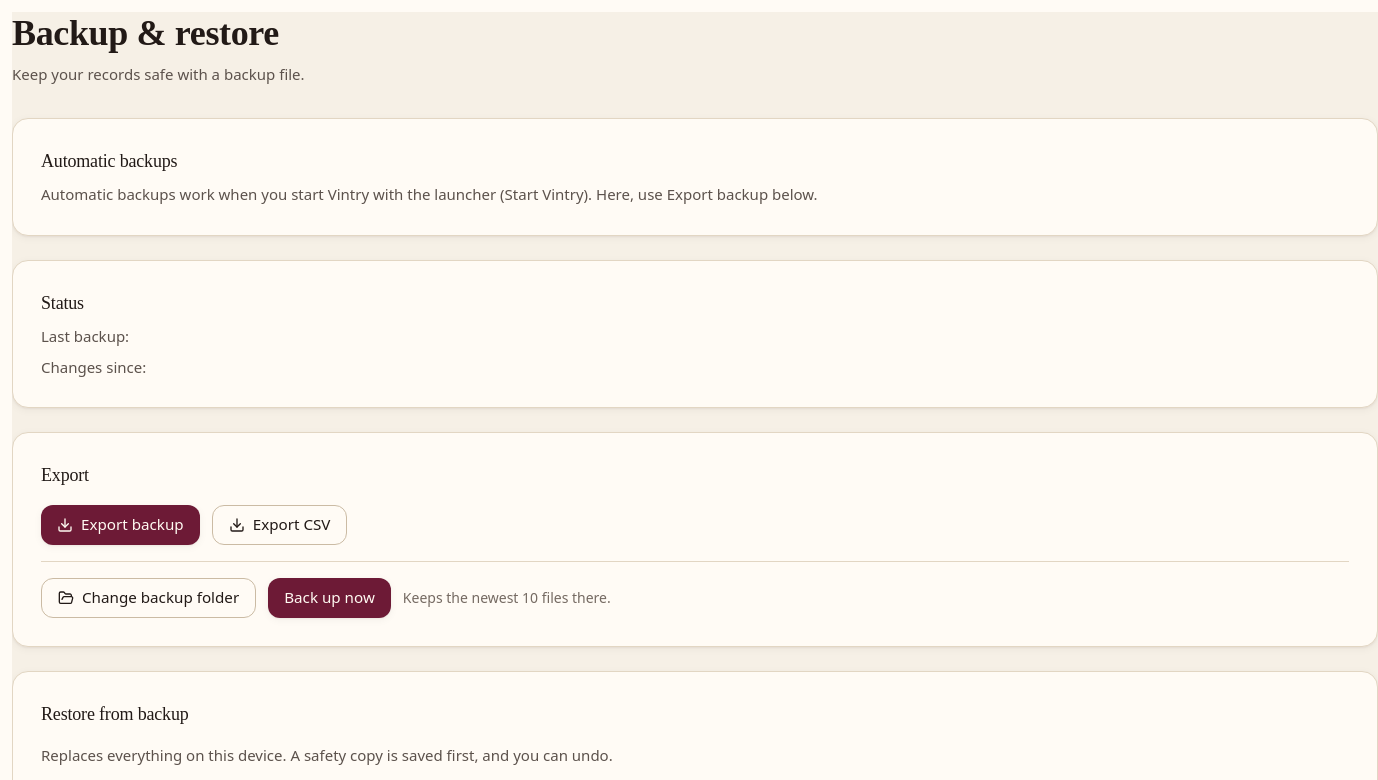
Test case: BackupPage › exports a CSV of the cellar
This screenshot has width=1378, height=780.
Step 1. Click the button "Export CSV" → (280, 525), box [212,505,348,545]
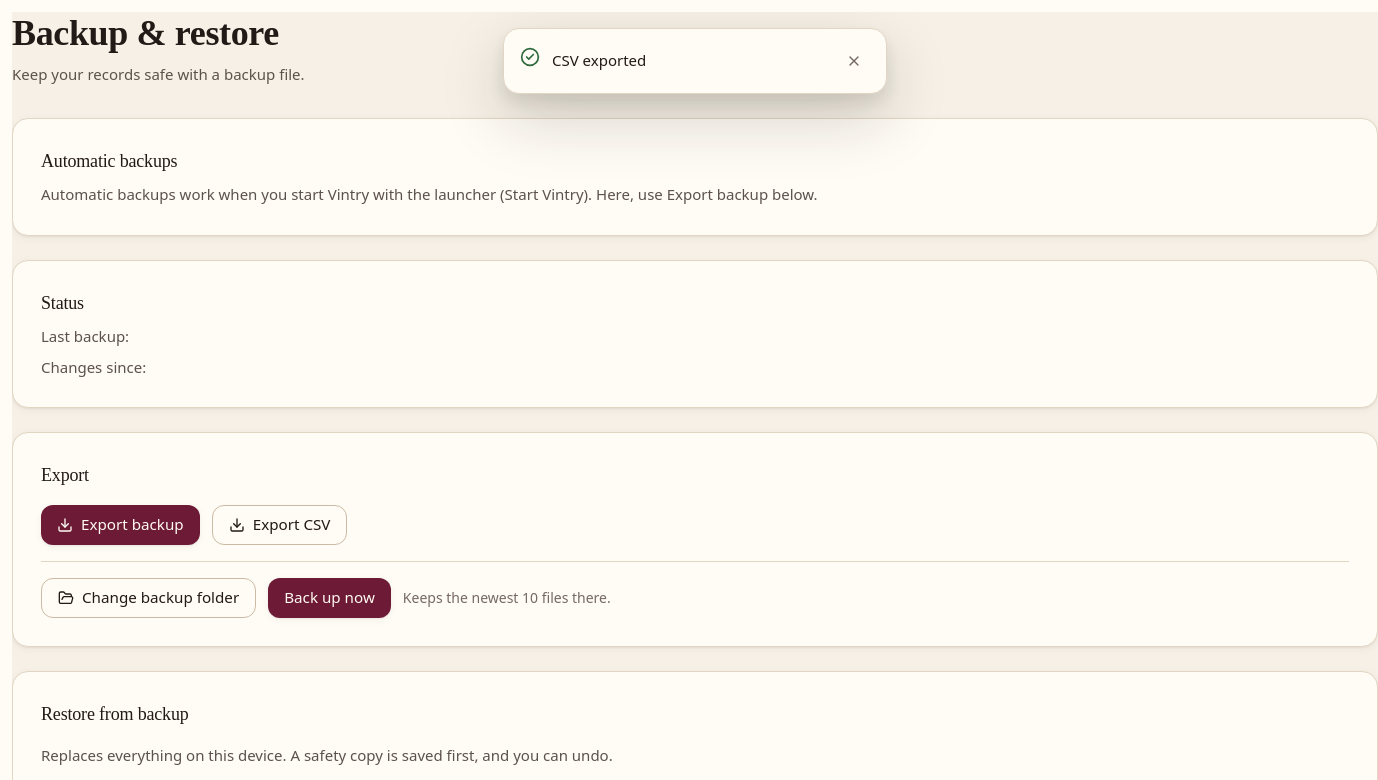
expect the text "CSV exported" is shown: met, box [552,50,646,70]
